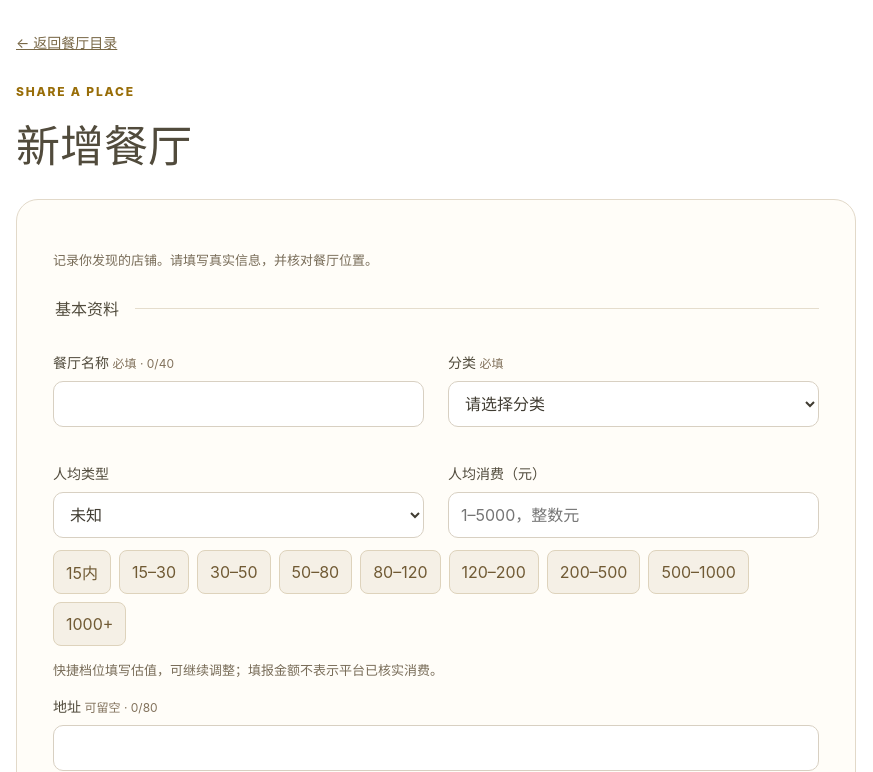
Test: restaurant maintenance form › retains inputs and maps server field errors for manual retry
The width and height of the screenshot is (873, 772).
Type "新建测试店" into the field with id "restaurant-name".
click(238, 404); type("新建测试店")  # box [53,381,424,427]
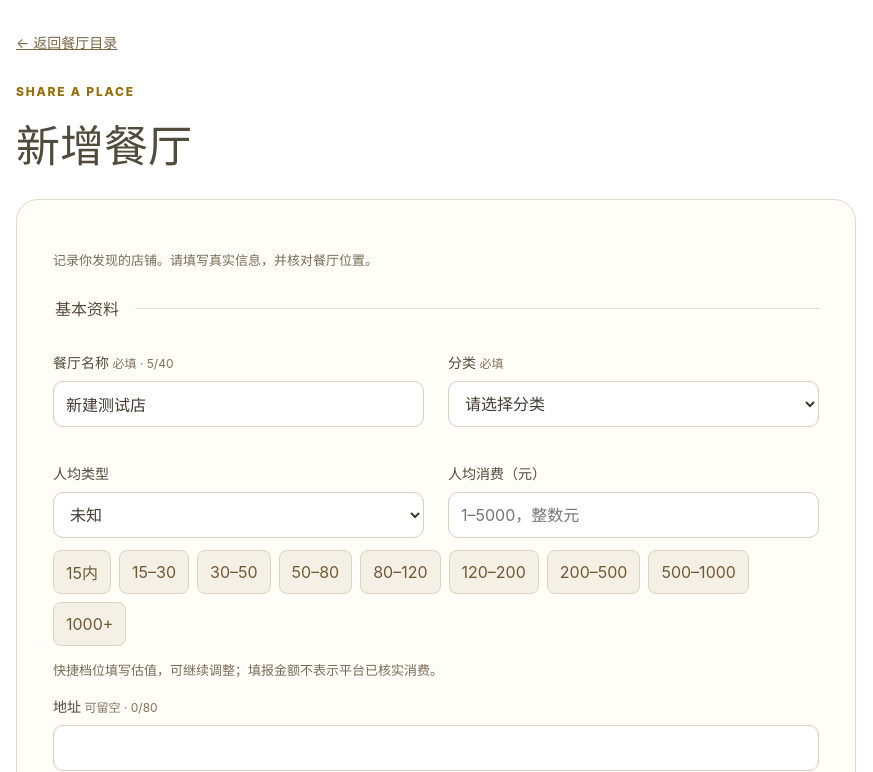
Select "火锅" in the dropdown labelled "分类 必填" at {"x": 634, "y": 404}, box [448,381,819,427]
(page scrolled)
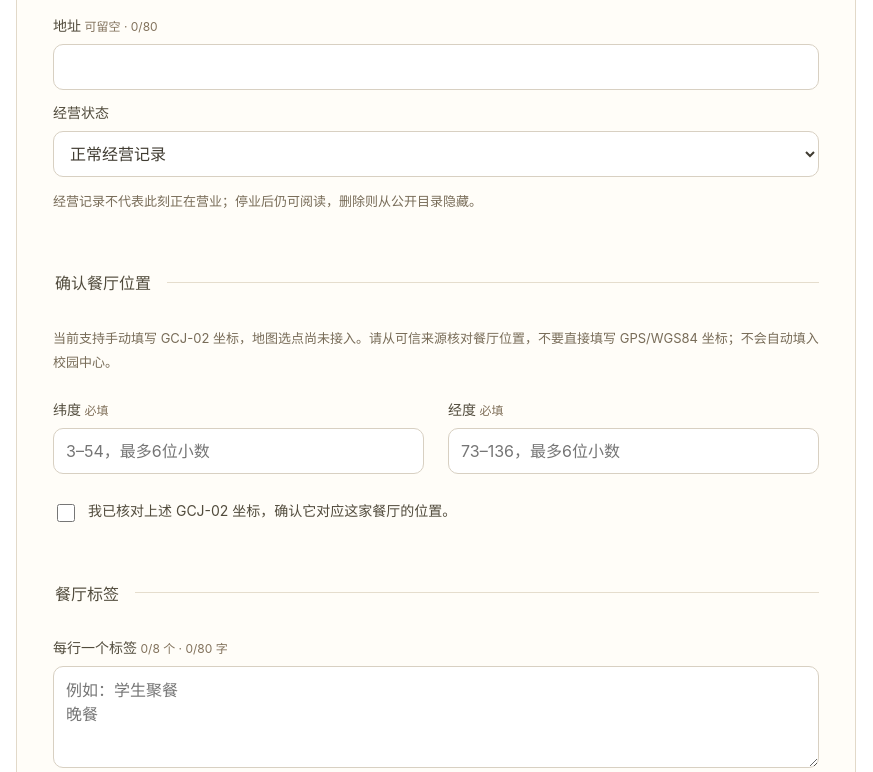
Type "30.7544" into the field labelled "纬度 必填".
click(238, 451); type("30.7544")  # box [53,428,424,474]
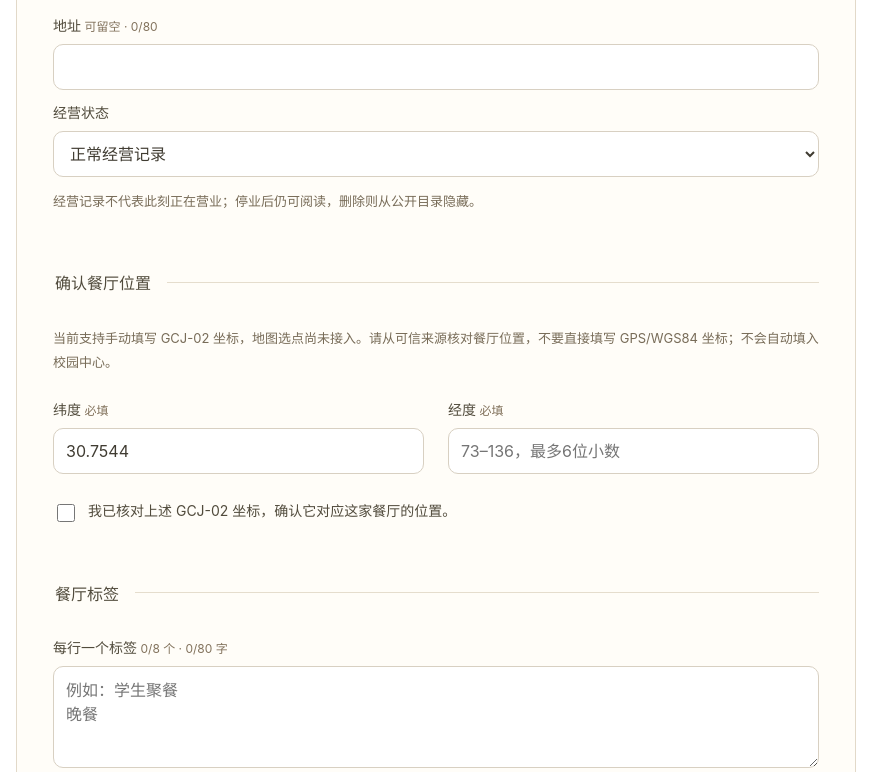
Type "103.9312" into the field labelled "经度 必填".
click(634, 451); type("103.9312")  # box [448,428,819,474]
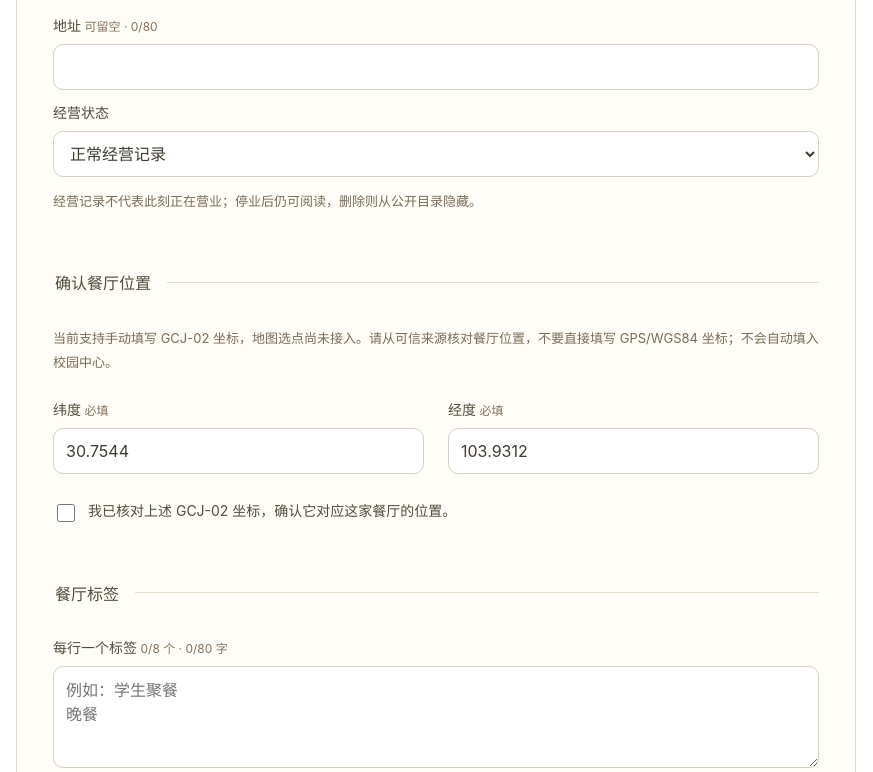
Click the checkbox with id "restaurant-location-confirmed".
click(66, 513)  # box [57,504,75,522]
(page scrolled)
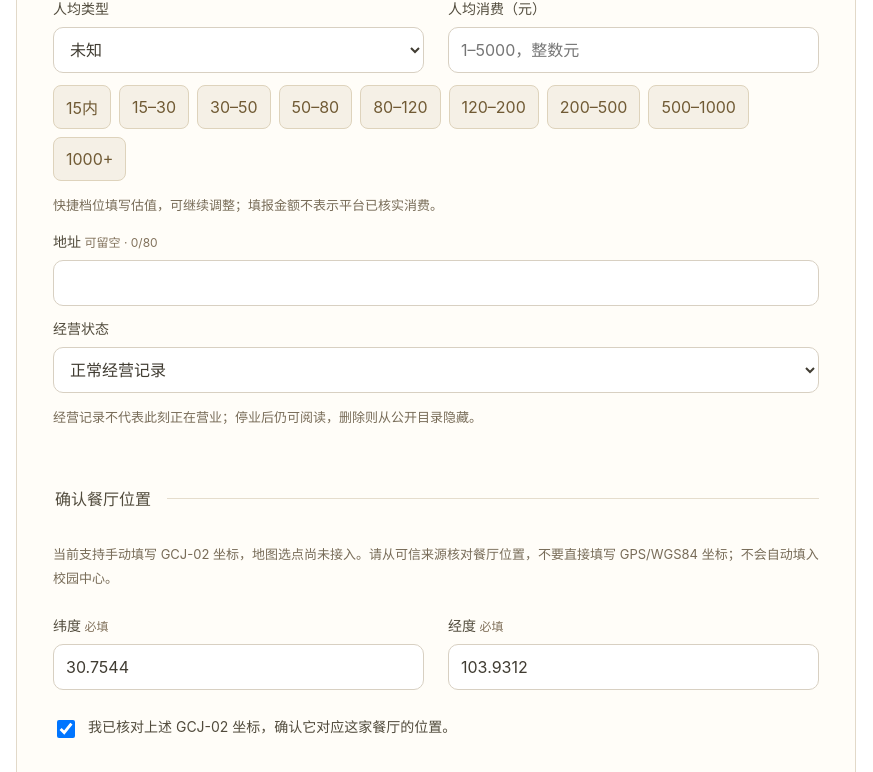
Submit the form
(page scrolled)
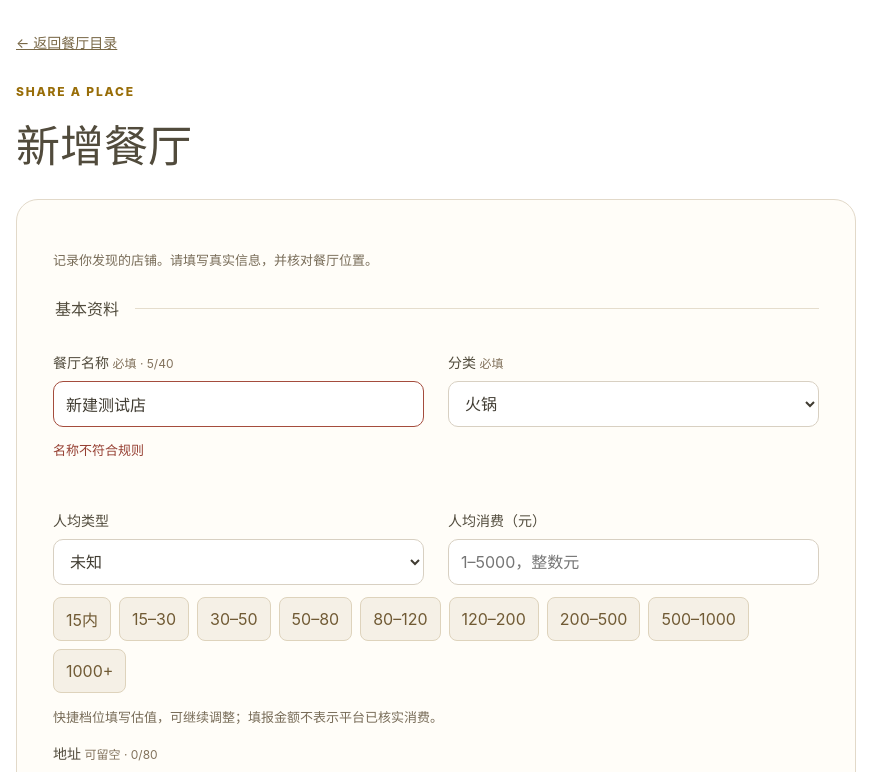
Now the text with id "error-name" reads "名称不符合规则", box [53,442,144,458]
